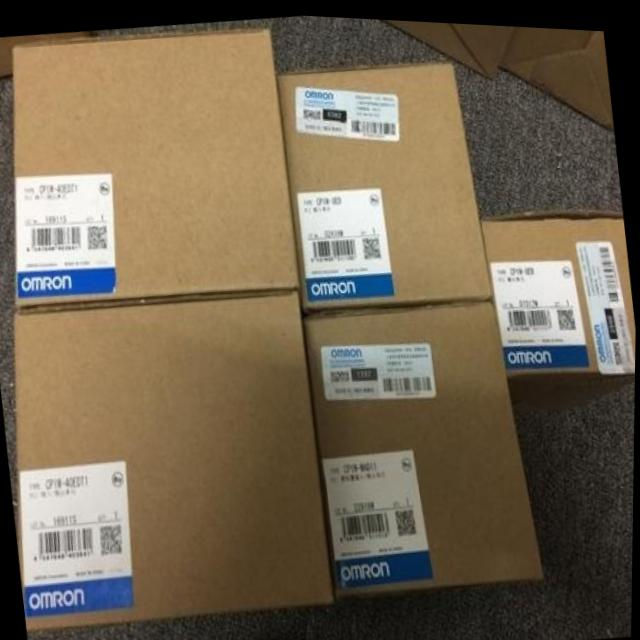box: (15, 286, 339, 629), (12, 23, 302, 309), (302, 292, 544, 595), (276, 58, 493, 306), (481, 203, 637, 404), (498, 21, 614, 127), (386, 16, 514, 72), (0, 30, 85, 74)
